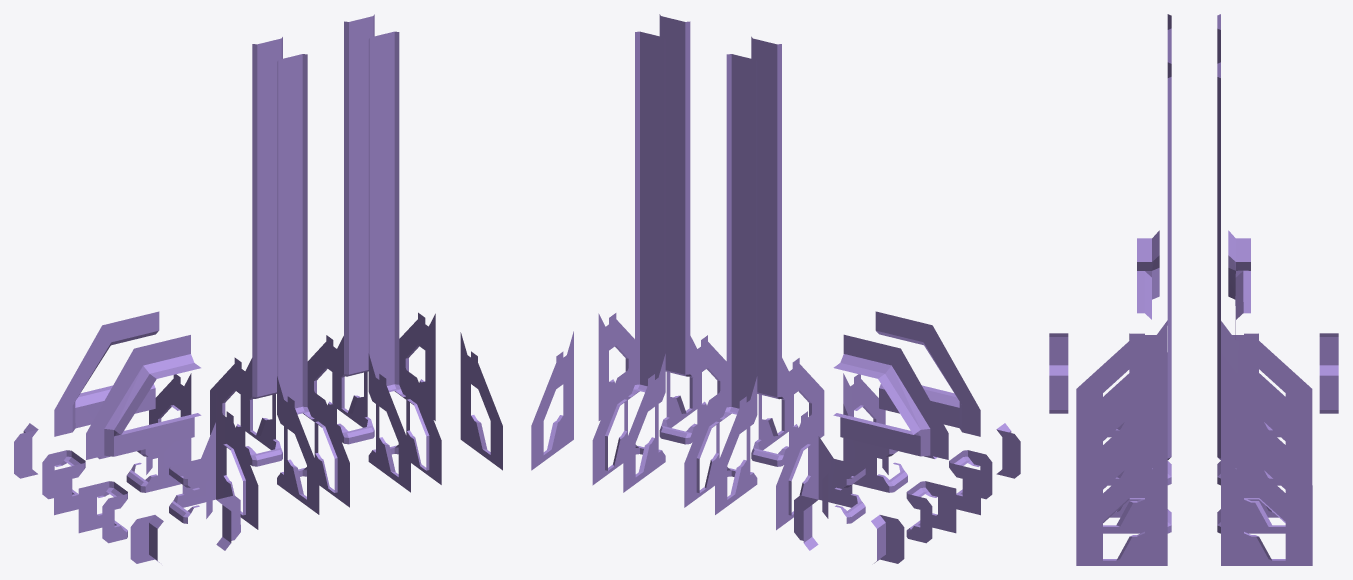
File: cluster18.fbx
3 renders of one model, left to right at view 1: azimuth 30°, elevation 25°; view 2: azimuth 150°, elevation 25°; view 3: azimuth 270°, elevation 25°, orthographic. The views are drawn at different scales.
Visible parts, largest first — view 1: cluster18; view 2: cluster18; view 3: cluster18.
Part boxes in pixels (x1,y1,x2,y2): cluster18: (14, 14, 502, 563); cluster18: (531, 14, 1020, 563); cluster18: (1049, 14, 1338, 565).
Size of the model in its own units: 107006 by 112280 by 64563.
